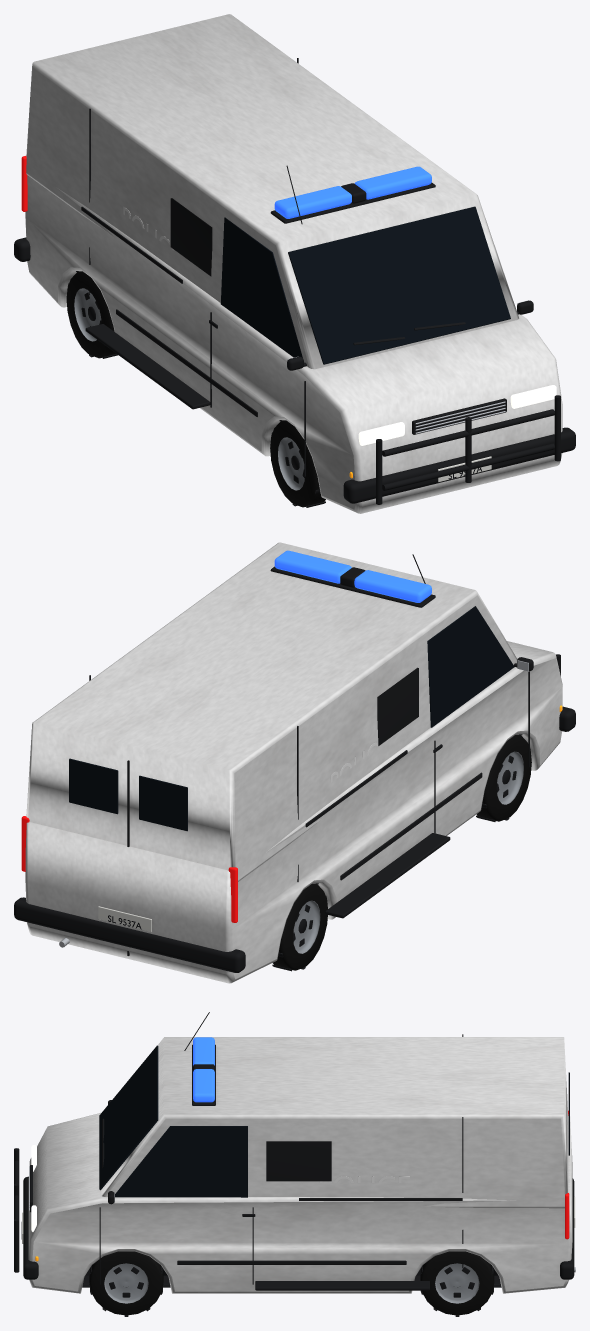
The model's file is auto_swat.glb.
3 views of the same model, one above another, from view 1: azimuth 30°, elevation 25°; view 2: azimuth 150°, elevation 25°; view 3: azimuth 270°, elevation 25° (orthographic). The views are drawn at different scales.
Parts seen in each view (by area): view 1: TintKaroseria, Detale, Kolo1, Kolo3, KogutL, KogutP, Reflektor.001, Reflektor; view 2: TintKaroseria, Detale, Kolo3, Kolo1, KogutL, KogutP; view 3: TintKaroseria, Detale, Kolo2, Kolo4, KogutP, KogutL.
Part boxes in pixels (bbox=[...]): TintKaroseria: bbox=[25, 14, 562, 513]; Detale: bbox=[14, 58, 575, 504]; Kolo1: bbox=[270, 420, 325, 507]; Kolo3: bbox=[66, 271, 117, 358]; KogutL: bbox=[274, 186, 351, 218]; KogutP: bbox=[354, 166, 431, 199]; Reflektor.001: bbox=[510, 385, 556, 408]; Reflektor: bbox=[358, 422, 404, 445]; TintKaroseria: bbox=[25, 542, 562, 983]; Detale: bbox=[14, 554, 575, 972]; Kolo3: bbox=[272, 883, 327, 971]; Kolo1: bbox=[476, 734, 531, 821]; KogutL: bbox=[354, 570, 431, 602]; KogutP: bbox=[274, 550, 351, 583]; TintKaroseria: bbox=[28, 1037, 572, 1293]; Detale: bbox=[14, 1012, 575, 1290]; Kolo2: bbox=[89, 1251, 163, 1316]; Kolo4: bbox=[420, 1251, 494, 1316]; KogutP: bbox=[193, 1069, 214, 1102]; KogutL: bbox=[193, 1037, 214, 1065].
Size of the model in its own units: 2.22 by 2.4 by 5.15.
14 materials, 1 textured.
